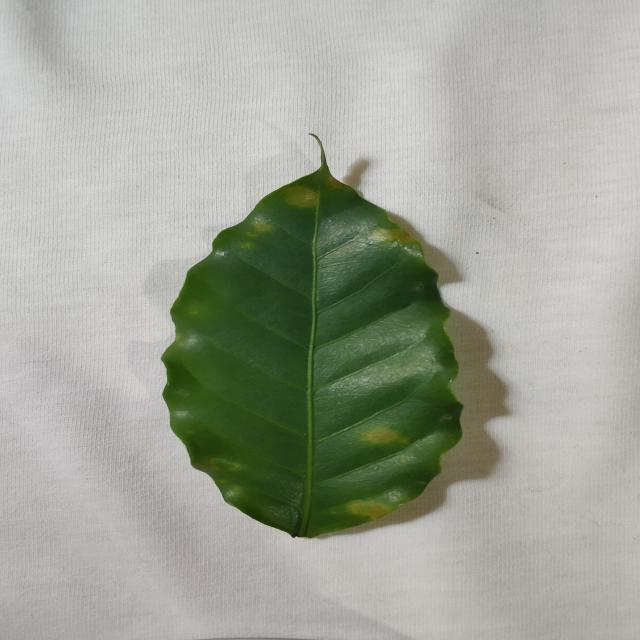Enfermedad-Roya: (160, 162, 465, 541)
